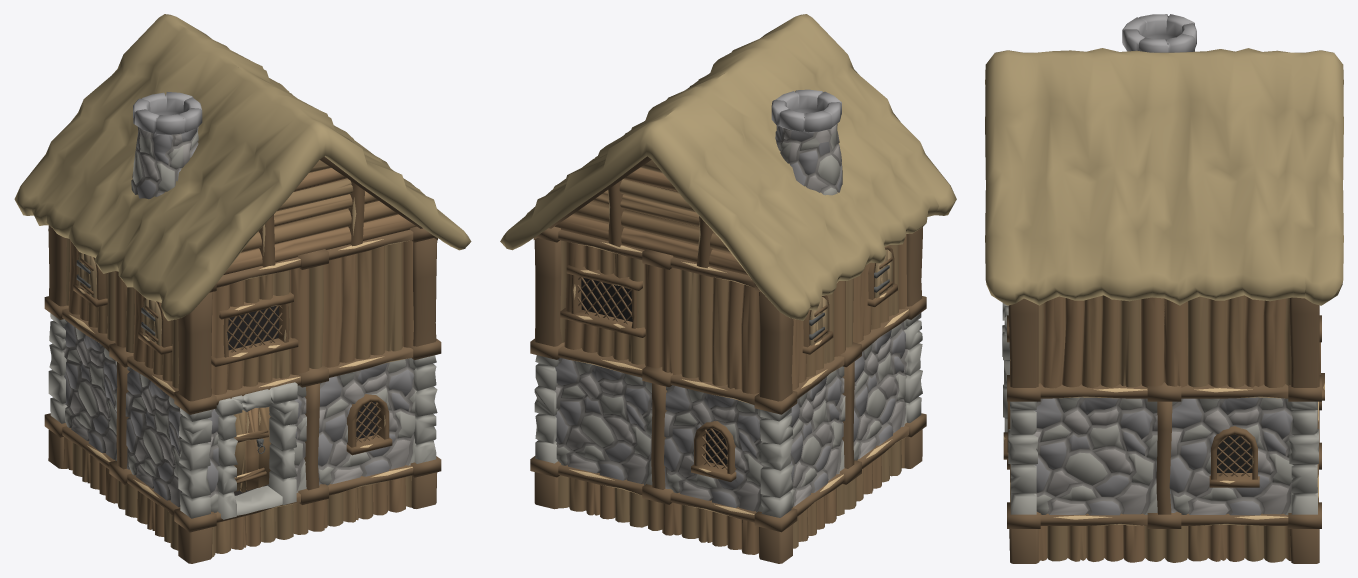
File: rpgpp_ag_building_closed_08.fbx
3 views of the same model, side by side, from view 1: azimuth 30°, elevation 25°; view 2: azimuth 150°, elevation 25°; view 3: azimuth 270°, elevation 25° (orthographic). The views are drawn at different scales.
Visible parts, largest first — view 1: rpgpp_ag_building_closed_08; view 2: rpgpp_ag_building_closed_08; view 3: rpgpp_ag_building_closed_08.
Boxes of the visible parts, box(x1,y1,x2,y2) form: rpgpp_ag_building_closed_08: box(14, 14, 471, 563); rpgpp_ag_building_closed_08: box(500, 14, 956, 563); rpgpp_ag_building_closed_08: box(985, 14, 1343, 563).
Bounding box in the file's own units: 8.13 × 10.54 × 7.66.
